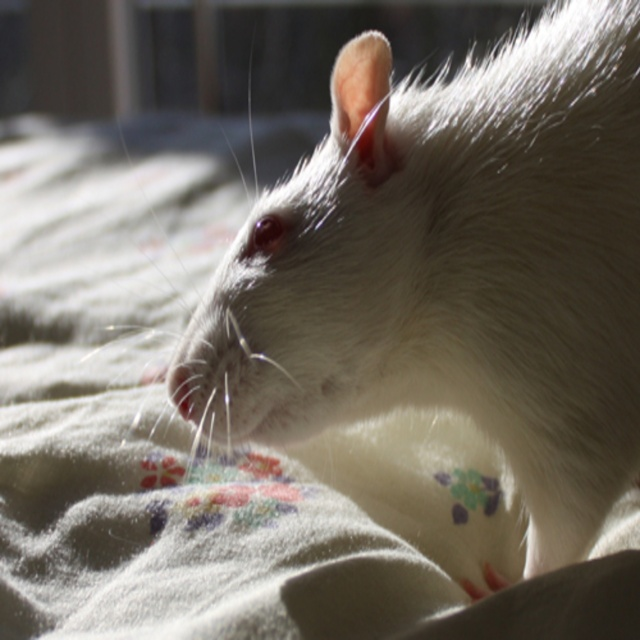Mouse: (147, 28, 596, 614)
